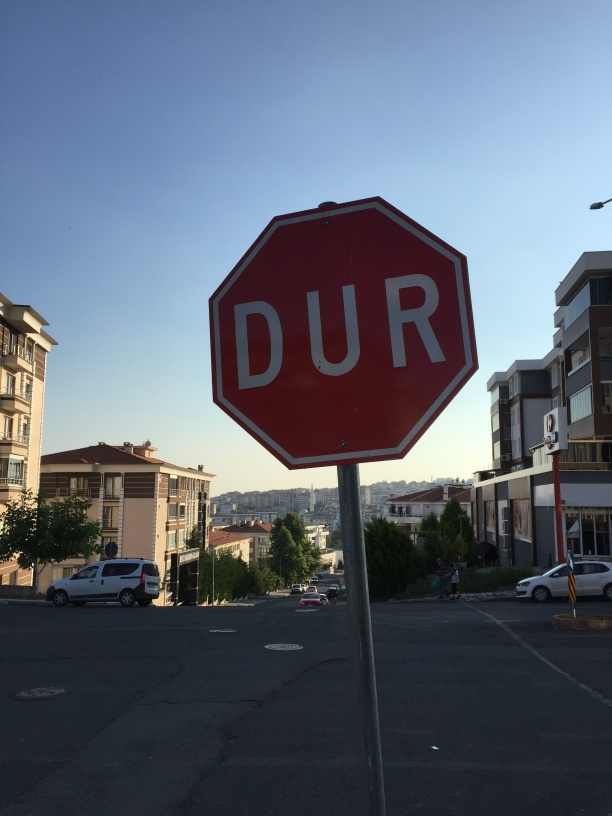arac_dur_isareti: (181, 81, 530, 674)
